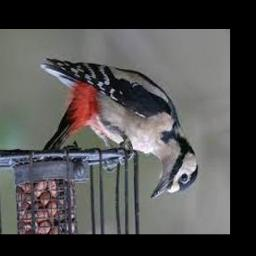Woodpecker: (41, 59, 199, 200)
